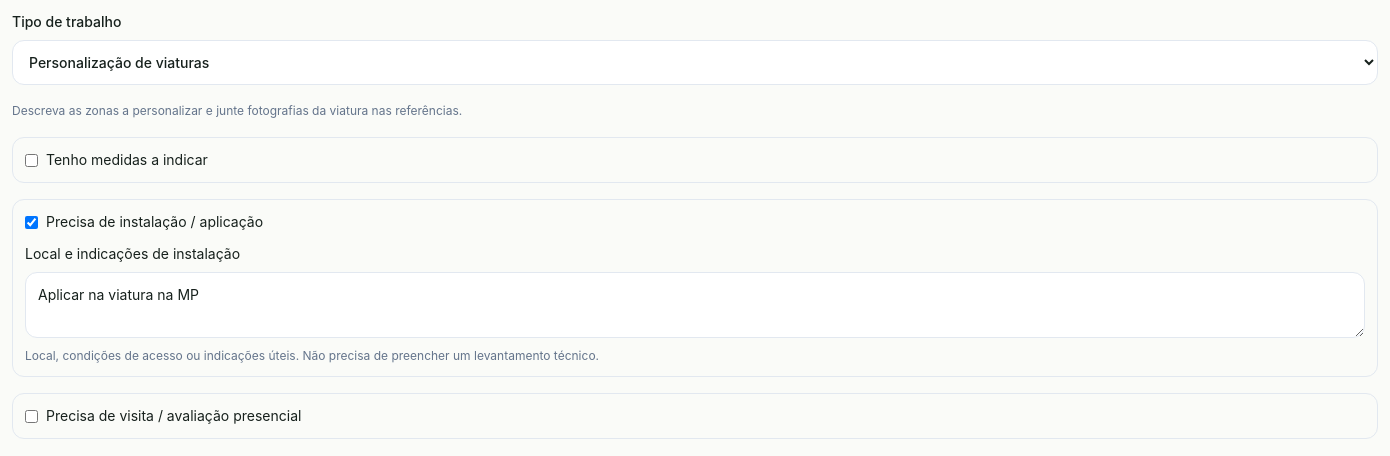
Contextual material briefing › retains existing site details after a type change
The image size is (1390, 456).
Step 1. Select "Papelaria e impressos" in the dropdown labelled "Tipo de trabalho" → (695, 62), box top-left (12, 40), bottom-right (1378, 85)
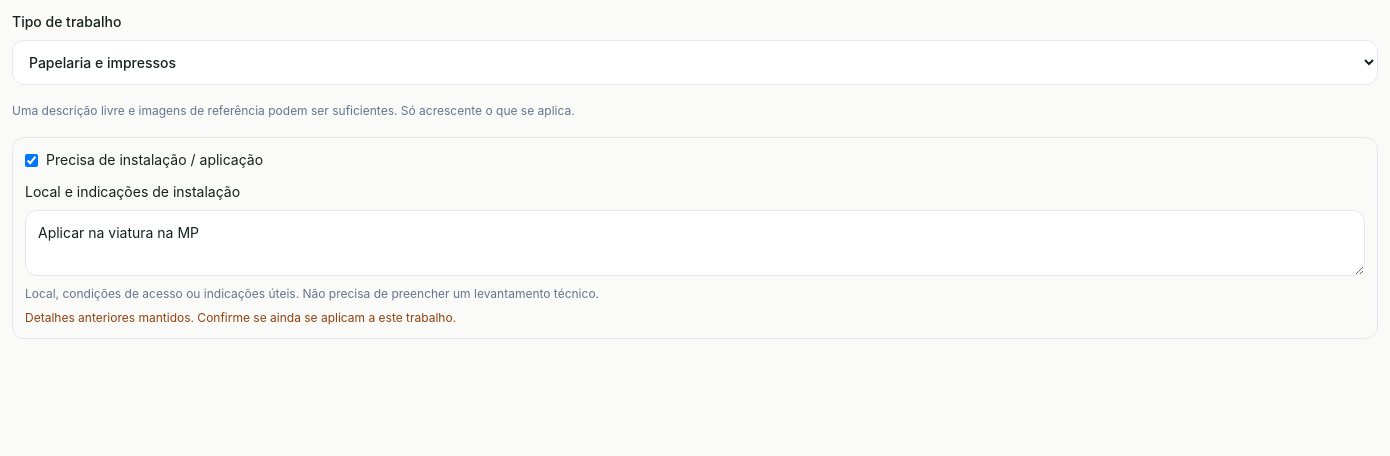
Expected: the text box labelled "Local e indicações de instalação" holds "Aplicar na viatura na MP", top-left (25, 210), bottom-right (1365, 276)
Expected: the text "Detalhes anteriores mantidos" is shown, top-left (25, 310), bottom-right (456, 325)
Expected: the label labelled "Precisa de visita / avaliação presencial" is gone
